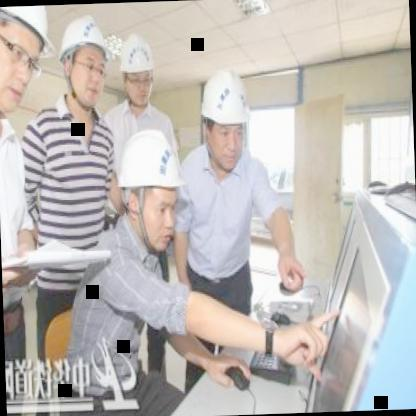helmet: (102, 118, 192, 250), (0, 4, 73, 129), (194, 62, 256, 174), (53, 11, 114, 118), (116, 31, 160, 110)
